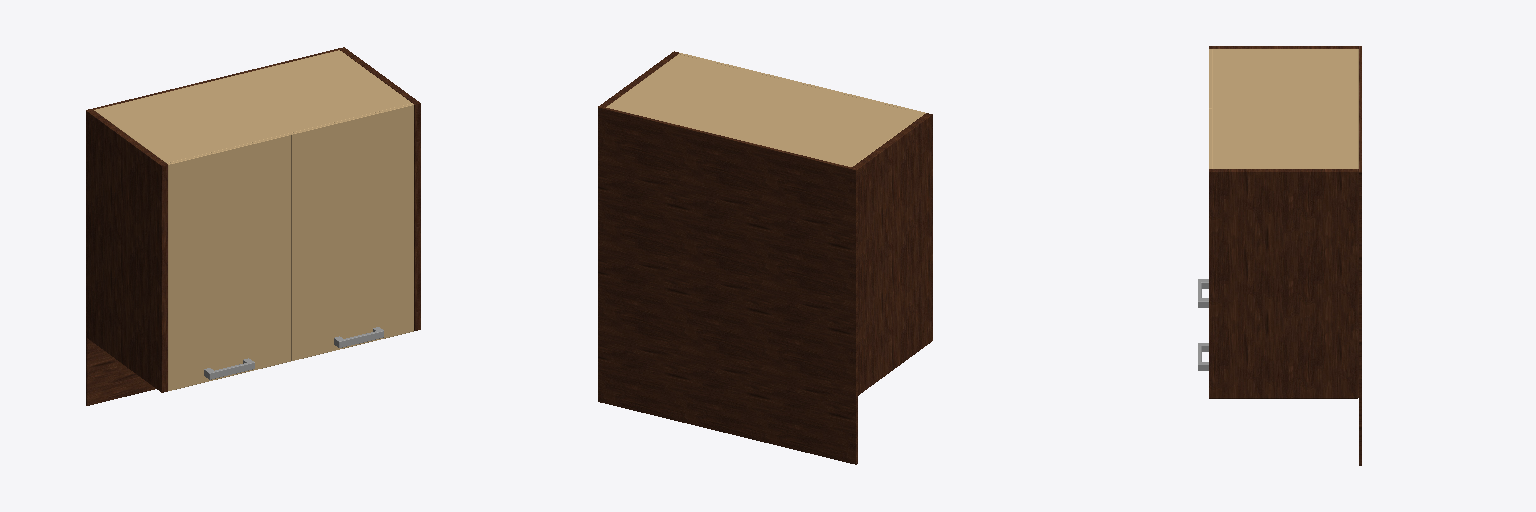
The picture shows the model from 3 angles: view 1: azimuth 30°, elevation 25°; view 2: azimuth 150°, elevation 25°; view 3: azimuth 270°, elevation 25°; orthographic projection.
Size of the model in its own units: 0.8 by 0.87 by 0.44.
Materials: 3 (2 with a texture image).